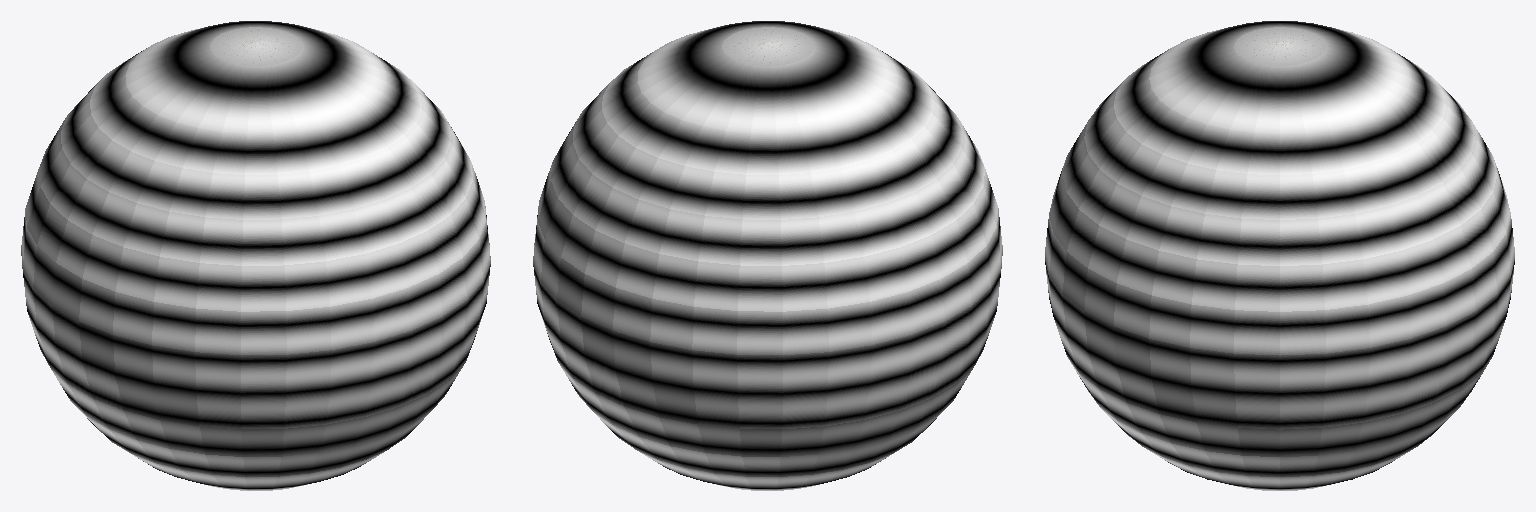
3 renders of one model, left to right at view 1: azimuth 30°, elevation 25°; view 2: azimuth 150°, elevation 25°; view 3: azimuth 270°, elevation 25°, orthographic.
Visible parts, largest first — view 1: Sphere.001; view 2: Sphere.001; view 3: Sphere.001.
Part boxes in pixels (left/top/right/bottom): Sphere.001: left=21, top=21, right=490, bottom=490; Sphere.001: left=533, top=21, right=1002, bottom=490; Sphere.001: left=1045, top=21, right=1514, bottom=490.
Size of the model in its own units: 2 by 2 by 2.
1 materials, 1 textured.